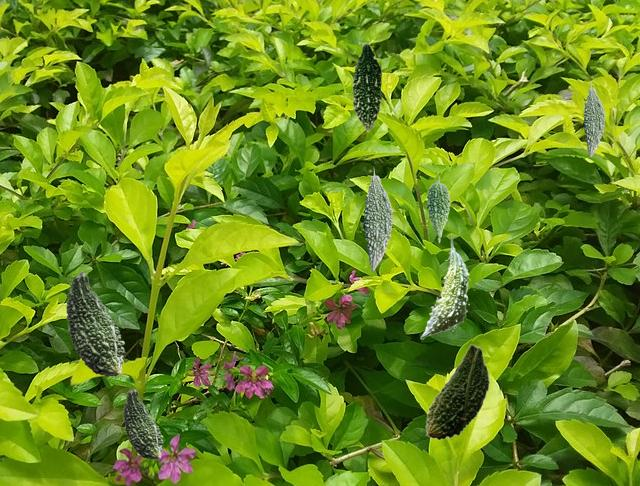ampalaya: (425, 344, 489, 439), (66, 271, 124, 375), (420, 234, 469, 338), (363, 166, 392, 270), (352, 41, 383, 131), (123, 388, 162, 458), (583, 81, 604, 156), (426, 176, 449, 242)
